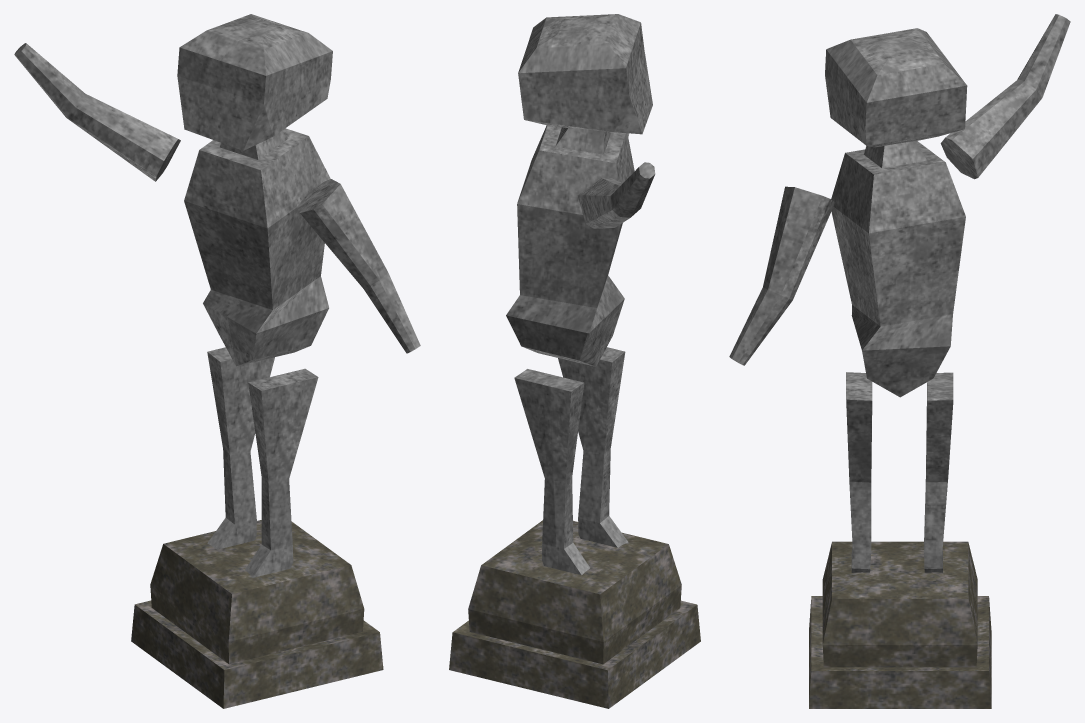
Rendered from Totem_C.fbx.
3 renders of one model, left to right at view 1: azimuth 30°, elevation 25°; view 2: azimuth 150°, elevation 25°; view 3: azimuth 270°, elevation 25°, orthographic.
Parts seen in each view (by area): view 1: Totem_C; view 2: Totem_C; view 3: Totem_C.
Boxes of the visible parts, left/top/right/bottom form: Totem_C: left=14, top=14, right=420, bottom=708; Totem_C: left=449, top=14, right=700, bottom=708; Totem_C: left=729, top=14, right=1070, bottom=708.
Size of the model in its own units: 382 by 951 by 471.
2 materials, 2 textured.
